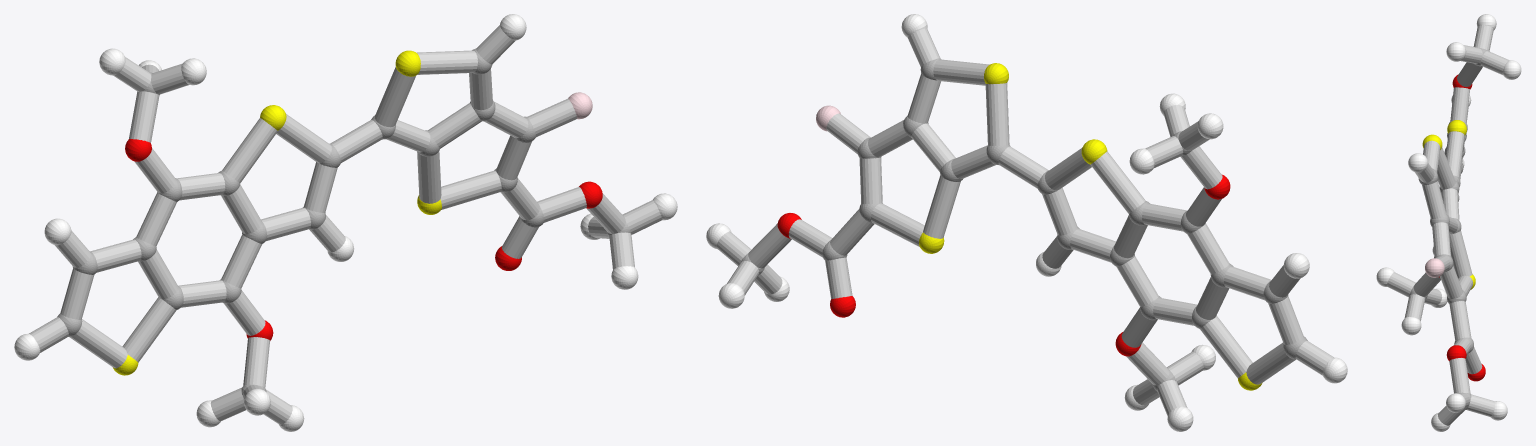
The model's file is Dimethoxy_Benzodithiophene_Phi_10_Theta_200_Methylcarbonyl_3_Fluoro_Thienothiophene.glb.
3 renders of one model, left to right at view 1: azimuth 30°, elevation 25°; view 2: azimuth 150°, elevation 25°; view 3: azimuth 270°, elevation 25°, orthographic. The views are drawn at different scales.
Visible parts, largest first — view 1: grp15205, grp8689, grp1, grp7241, grp13395; view 2: grp15205, grp8689, grp1, grp7241, grp13395; view 3: grp15205, grp8689, grp1, grp13395, grp7241, grp14843.
Part boxes in pixels (x1=…): grp15205: x1=29, y1=25, x2=662, y2=424; grp8689: x1=14, y1=14, x2=677, y2=431; grp1: x1=57, y1=48, x2=630, y2=395; grp7241: x1=113, y1=50, x2=441, y2=375; grp13395: x1=125, y1=139, x2=602, y2=340; grp15205: x1=716, y1=28, x2=1333, y2=415; grp8689: x1=706, y1=14, x2=1347, y2=431; grp1: x1=741, y1=58, x2=1307, y2=391; grp7241: x1=919, y1=63, x2=1262, y2=390; grp13395: x1=777, y1=174, x2=1230, y2=356; grp15205: x1=1387, y1=25, x2=1509, y2=425; grp8689: x1=1376, y1=14, x2=1521, y2=431; grp1: x1=1409, y1=48, x2=1487, y2=410; grp13395: x1=1439, y1=74, x2=1485, y2=381; grp7241: x1=1422, y1=120, x2=1475, y2=289; grp14843: x1=1425, y1=258, x2=1444, y2=277.
Size of the model in its own units: 16.92 by 9.16 by 4.39.
